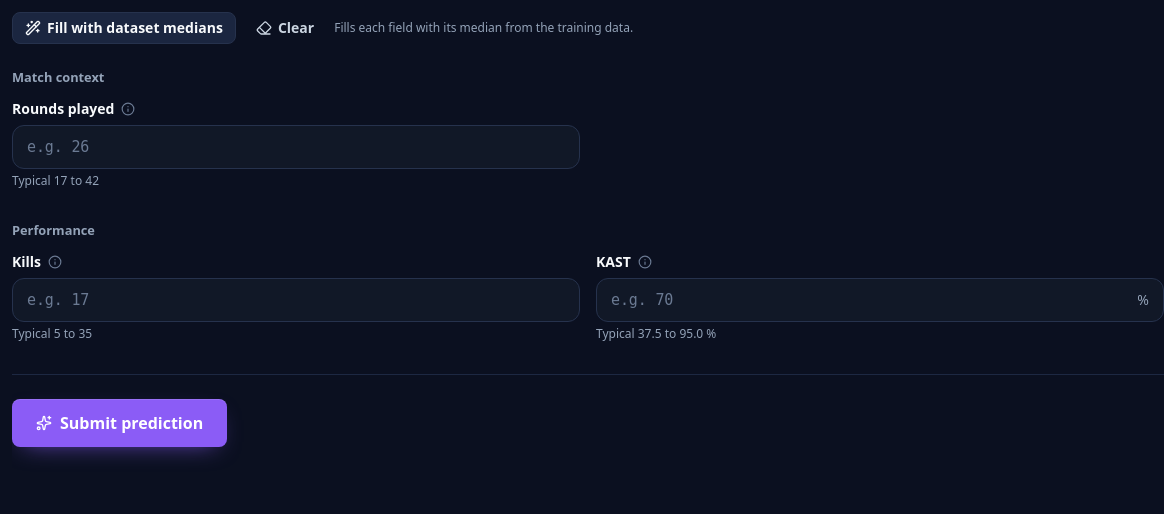
Test: PredictionForm › blocks submission when fields are empty
This screenshot has width=1164, height=514.
Click the button "Submit prediction". click: x=120, y=423
box: [12,399,227,447]
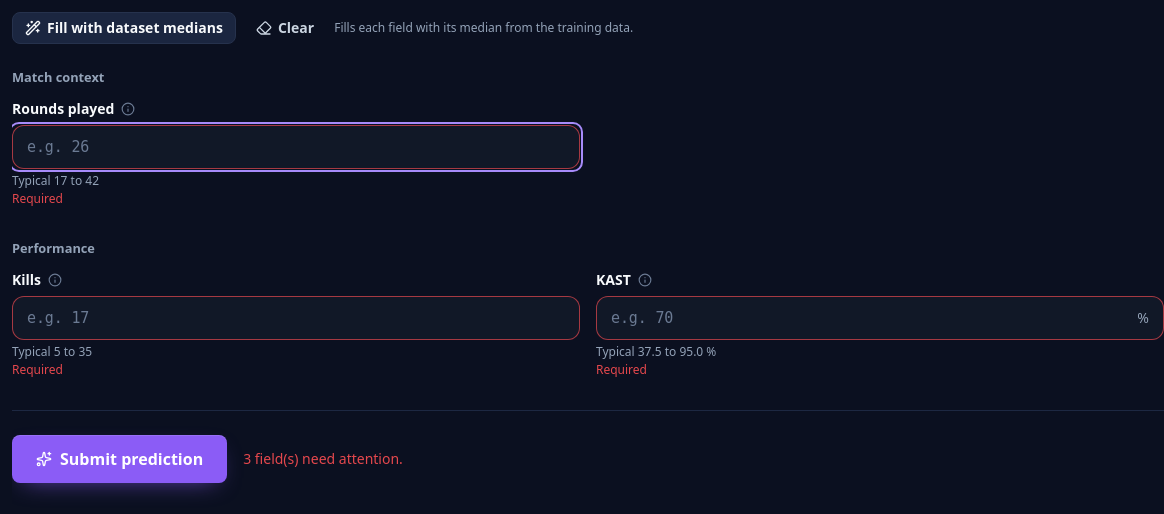
expect the text "Required" is shown 3 times: met, box [12,190,63,207]; [12,361,63,378]; [596,361,647,378]
